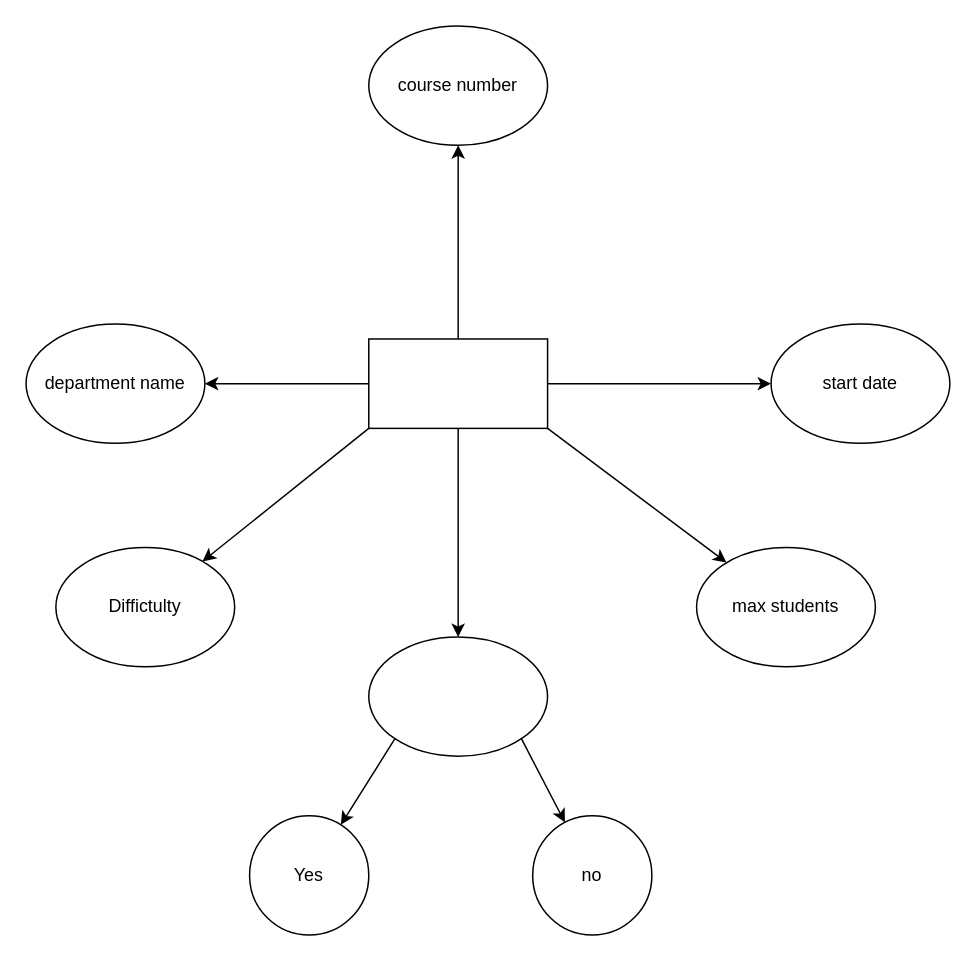
Image size: 976x961. Some labels were removed from this diagram. Each missing label, with the centre of its shape:
course: (457,382)
oper for enrollment: (457,695)
